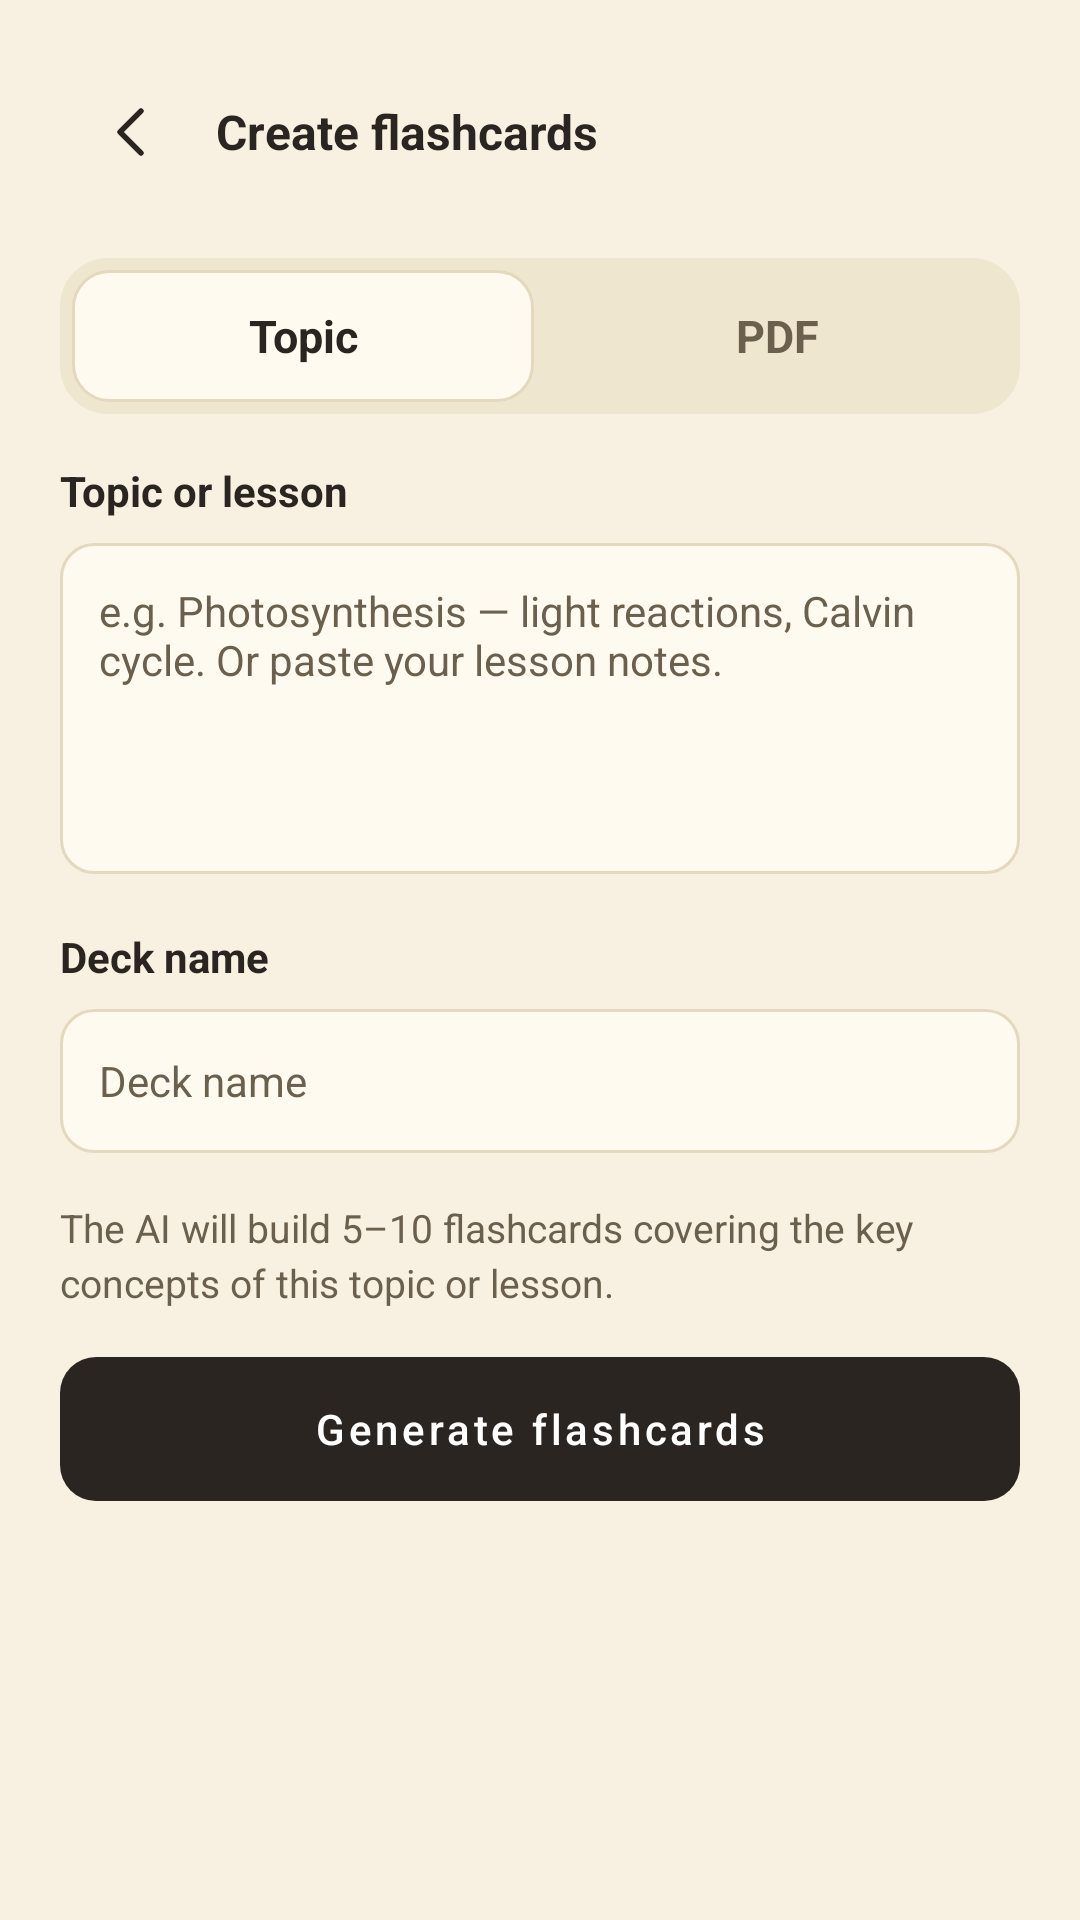

Icons on this 1080px x 1920px Android screen, each with the point to tap as (x,y):
Back: (130,132)
